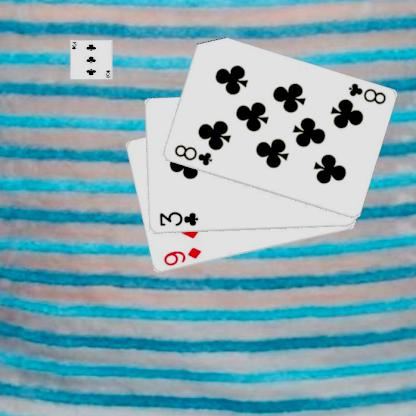3C: (157, 209, 199, 228)
8C: (171, 142, 213, 167), (345, 81, 387, 106)
9D: (160, 245, 202, 267)
